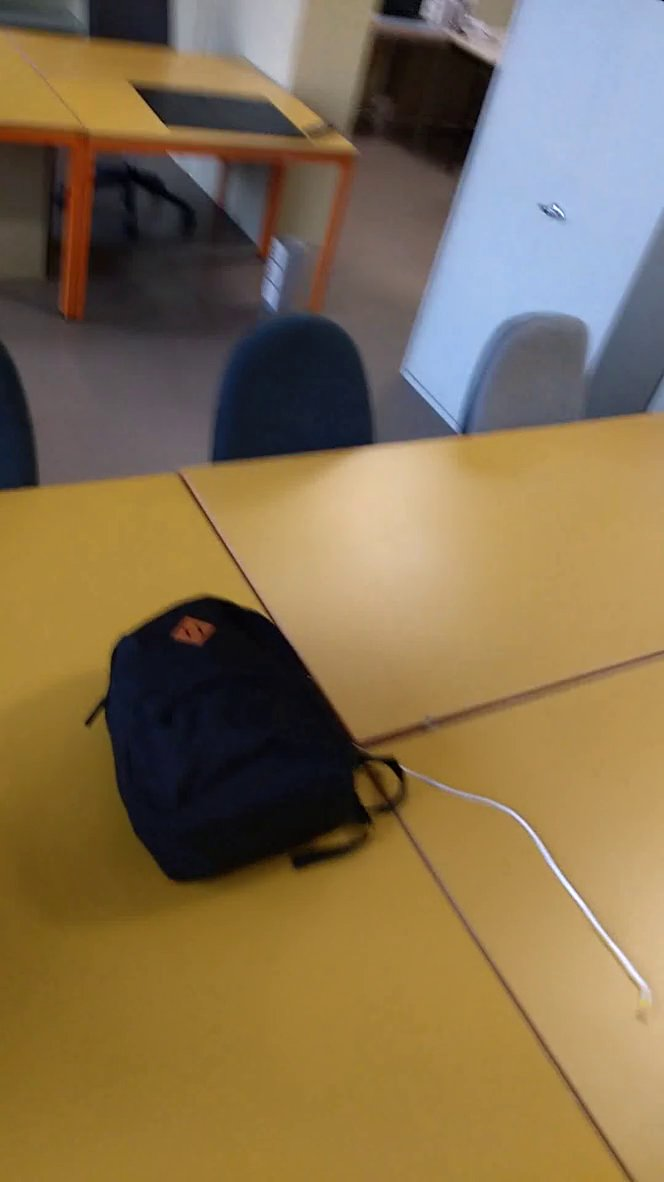bag: (69, 579, 428, 900)
chair: (208, 300, 414, 475), (454, 300, 625, 452)
